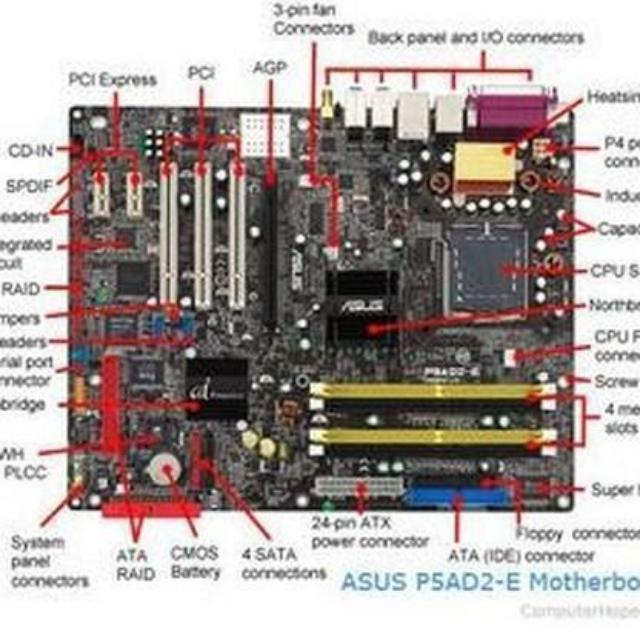Mainboard: (68, 91, 580, 520)
